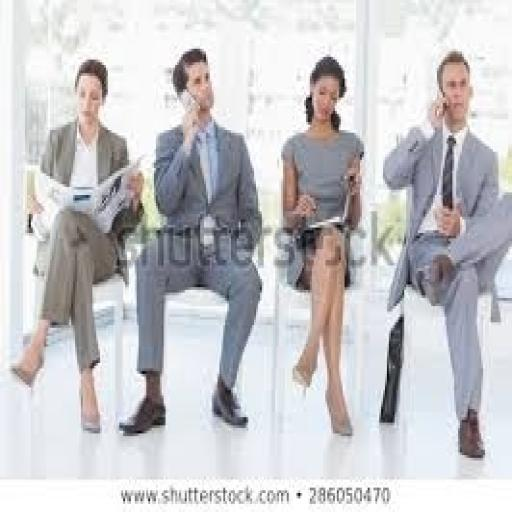sitting: (10, 41, 508, 455), (117, 43, 264, 436), (377, 46, 510, 461), (8, 54, 144, 434), (277, 52, 366, 436)
